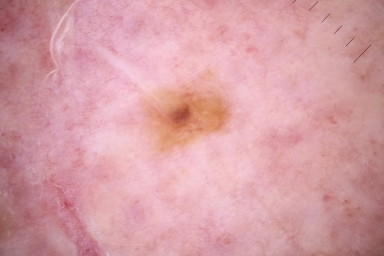melanoma: (151, 86, 231, 155)
